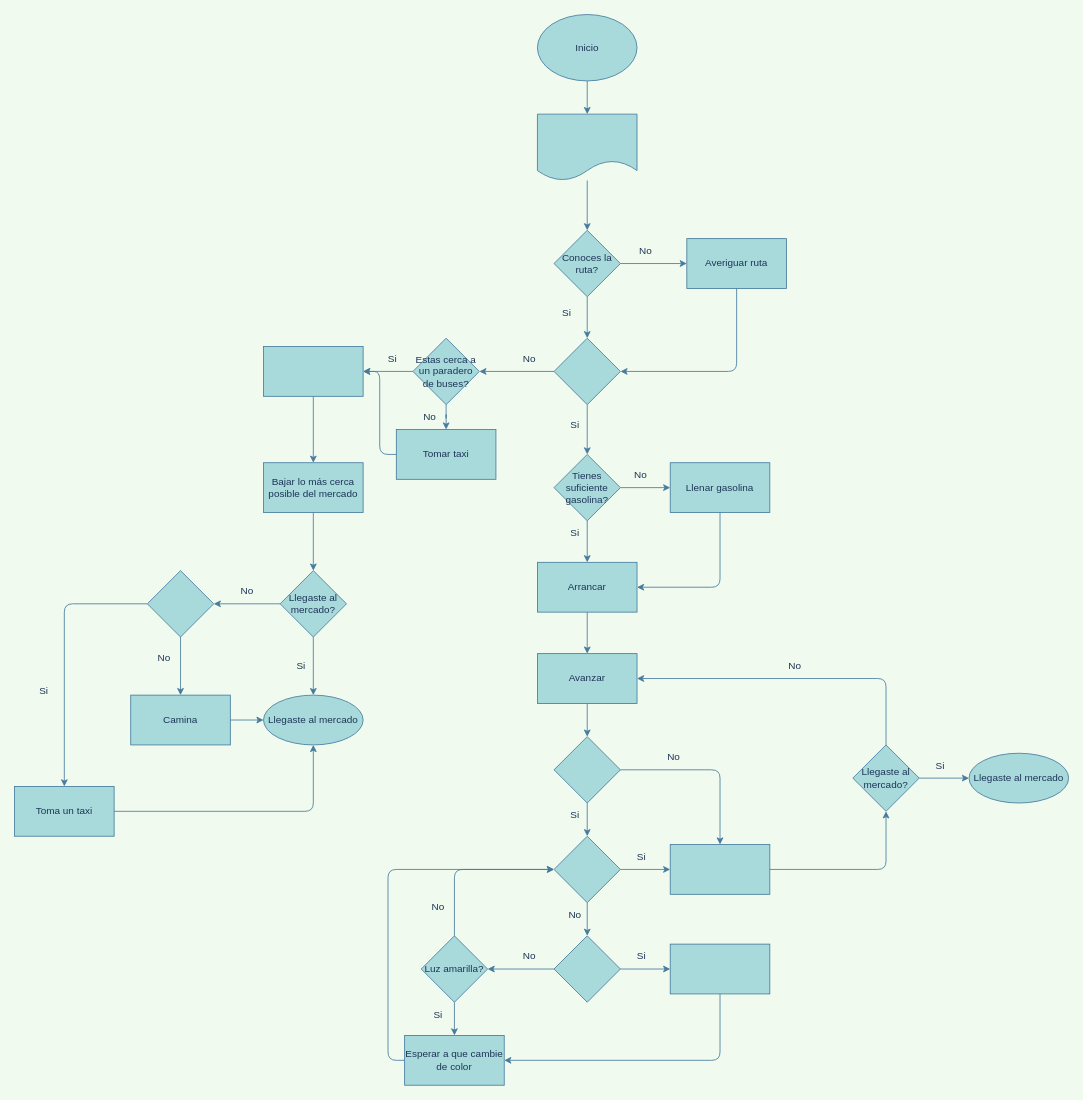
This 1083x1100 diagram has some shape labels left out. The centre of each missing label's shape, as x and y in pixels:
"Estas lejos?" goes at point 180,603.
"Frenar" goes at point 719,968.
"Luz roja?" goes at point 586,968.
"Luz verde?" goes at point 586,869.
"Seguir avanzando" goes at point 719,869.
"Semáforo?" goes at point 586,769.
"Tienes auto?" goes at point 586,371.
"Tomar Bus" goes at point 313,371.
"Vas al supermercado" goes at point 587,147.
